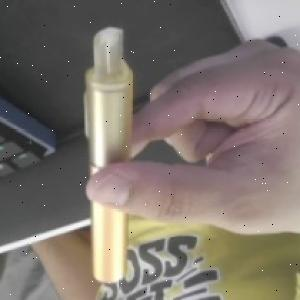Golden-E-Ciggirate: (82, 25, 137, 289)
